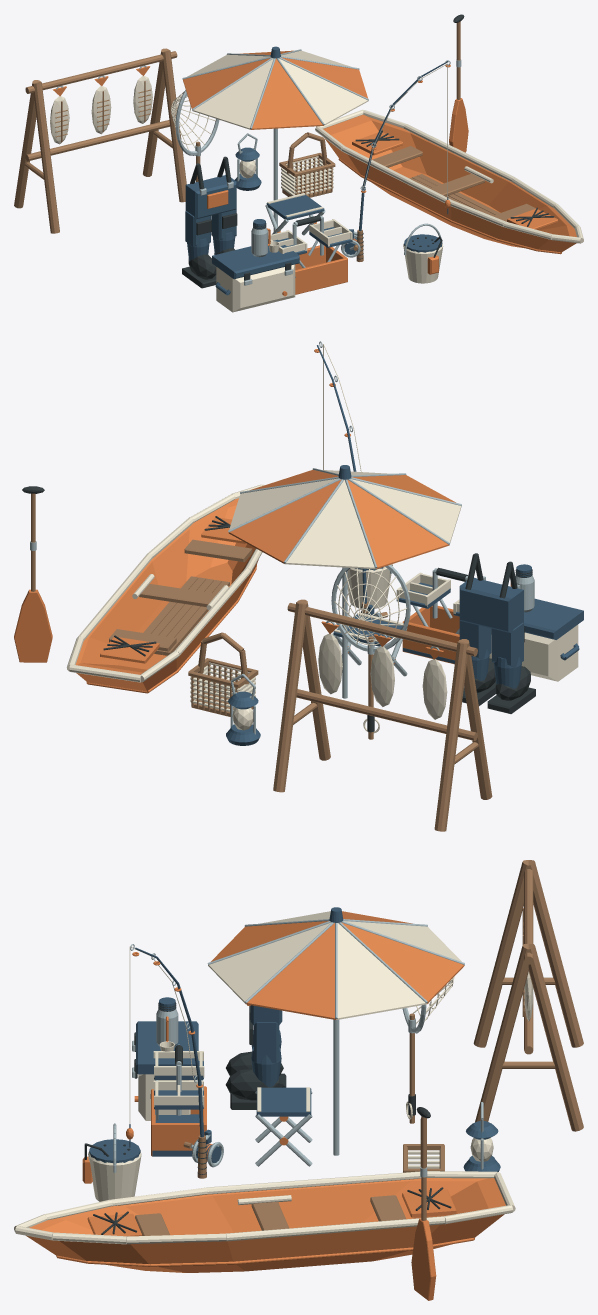
File: harbor-and-tackle-expedition-camp-7b836660__19600.glb
The picture shows the model from 3 angles, top to bottom: view 1: azimuth 30°, elevation 25°; view 2: azimuth 150°, elevation 25°; view 3: azimuth 270°, elevation 25°; orthographic projection. The views are drawn at different scales.
Parts seen in each view (by area): view 1: 000-fishing-canoe/orange, 009-fish-drying-rack/cedar, 002-fishing-umbrella/ivory, 002-fishing-umbrella/orange, 000-fishing-canoe/ivory, 008-chest-waders/navy, 010-insulated-catch-cooler/ivory, 000-fishing-canoe/cedar, 009-fish-drying-rack/ivory, 006-cantilever-tackle-chest/orange, 010-insulated-catch-cooler/navy, 002-fishing-umbrella/metal (+14 smaller); view 2: 009-fish-drying-rack/cedar, 000-fishing-canoe/orange, 002-fishing-umbrella/orange, 002-fishing-umbrella/ivory, 008-chest-waders/navy, 000-fishing-canoe/cedar, 000-fishing-canoe/ivory, 009-fish-drying-rack/ivory, 002-fishing-umbrella/metal, 008-chest-waders/rubber, 013-wicker-creel/cedar, 010-insulated-catch-cooler/ivory (+9 smaller); view 3: 000-fishing-canoe/orange, 009-fish-drying-rack/cedar, 002-fishing-umbrella/ivory, 002-fishing-umbrella/orange, 000-fishing-canoe/ivory, 002-fishing-umbrella/metal, 008-chest-waders/navy, 000-fishing-canoe/cedar, 006-cantilever-tackle-chest/ivory, 008-chest-waders/rubber, 010-insulated-catch-cooler/navy, 007-live-bait-pail/ivory (+13 smaller).
Part boxes in pixels (x1,y1,x2,y2): 000-fishing-canoe/orange: (323, 114, 576, 254); 009-fish-drying-rack/cedar: (14, 48, 186, 233); 002-fishing-umbrella/ivory: (187, 50, 368, 129); 002-fishing-umbrella/orange: (183, 50, 367, 129); 000-fishing-canoe/ivory: (315, 109, 583, 243); 008-chest-waders/navy: (185, 175, 236, 261); 010-insulated-catch-cooler/ivory: (216, 264, 295, 312); 000-fishing-canoe/cedar: (372, 146, 535, 221); 009-fish-drying-rack/ivory: (50, 75, 152, 144); 006-cantilever-tackle-chest/orange: (295, 245, 347, 294); 010-insulated-catch-cooler/navy: (212, 239, 299, 295); 002-fishing-umbrella/metal: (182, 49, 368, 231); 009-fish-drying-rack/cedar: (273, 599, 492, 831); 000-fishing-canoe/orange: (75, 498, 258, 693); 002-fishing-umbrella/orange: (228, 470, 455, 569); 002-fishing-umbrella/ivory: (229, 470, 461, 569); 008-chest-waders/navy: (459, 577, 523, 688); 000-fishing-canoe/cedar: (109, 539, 252, 655); 000-fishing-canoe/ivory: (66, 484, 264, 682); 009-fish-drying-rack/ivory: (318, 633, 447, 719); 002-fishing-umbrella/metal: (228, 468, 461, 698); 008-chest-waders/rubber: (462, 553, 535, 713); 013-wicker-creel/cedar: (188, 632, 258, 716); 010-insulated-catch-cooler/ivory: (489, 624, 578, 681); 000-fishing-canoe/orange: (26, 1178, 505, 1272); 009-fish-drying-rack/cedar: (473, 860, 583, 1131); 002-fishing-umbrella/ivory: (208, 911, 461, 1019); 002-fishing-umbrella/orange: (211, 911, 464, 1019); 000-fishing-canoe/ivory: (14, 1171, 515, 1244); 002-fishing-umbrella/metal: (207, 919, 464, 1155); 008-chest-waders/navy: (250, 1005, 282, 1087); 000-fishing-canoe/cedar: (135, 1195, 405, 1235); 006-cantilever-tackle-chest/ivory: (153, 1051, 204, 1107); 008-chest-waders/rubber: (225, 1006, 286, 1109); 010-insulated-catch-cooler/navy: (136, 1021, 198, 1098); 007-live-bait-pail/ivory: (88, 1151, 141, 1201).
Bounding box in the file's own units: 5.35 × 2.58 × 4.89.
